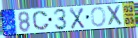3: (53, 8, 68, 31)
8: (18, 11, 32, 33)
C: (32, 10, 51, 31)
O: (90, 6, 107, 28)
X: (106, 4, 124, 27), (69, 7, 86, 30)
